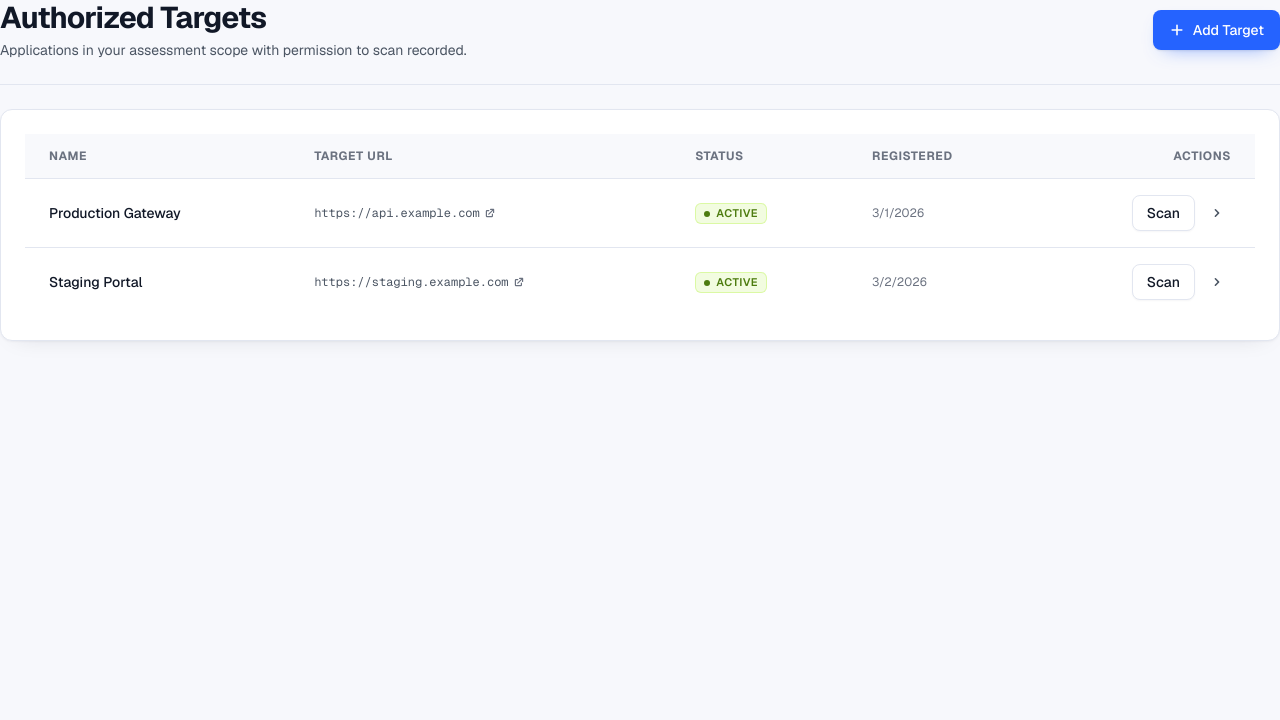
Targets Management Flow › validates empty name and target URL on submission
expect the link "Production Gateway" is shown: met, box [49,204,181,222]
Click the button "Add Target" at (1216,30), box [1153,10,1279,50]
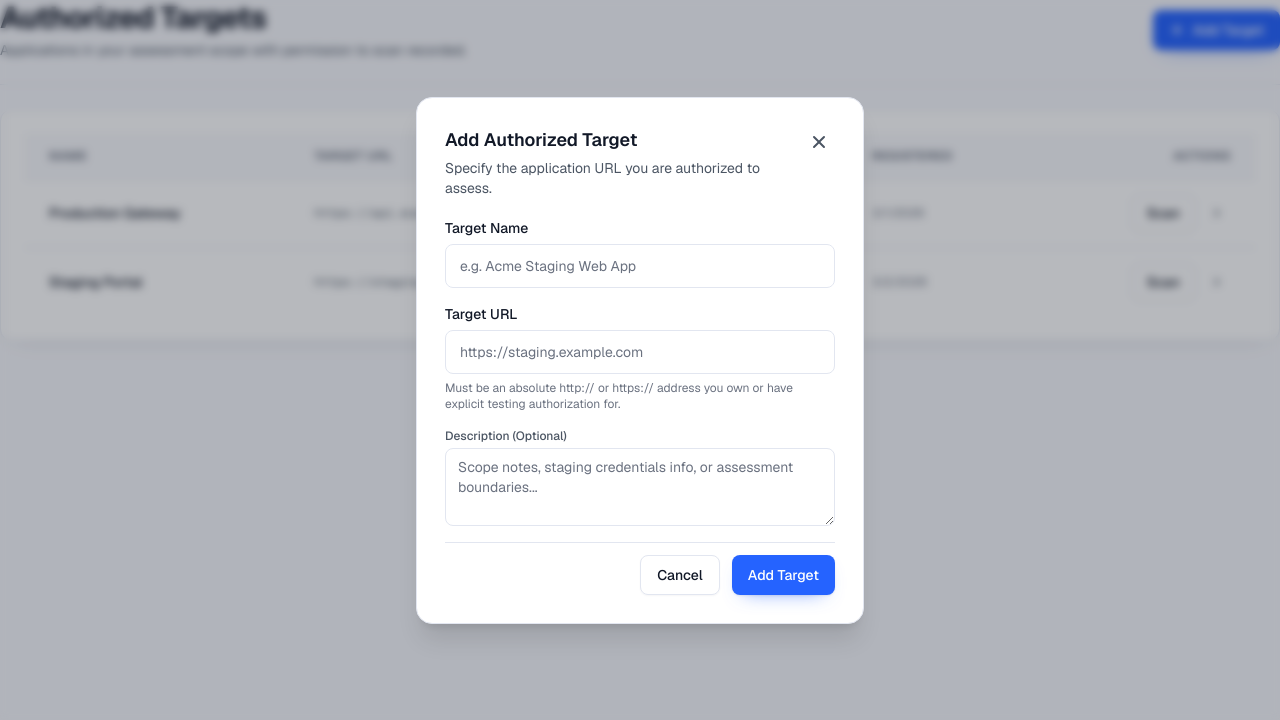
expect the dialog is shown: met
Submit the form, box [445,218,835,594]
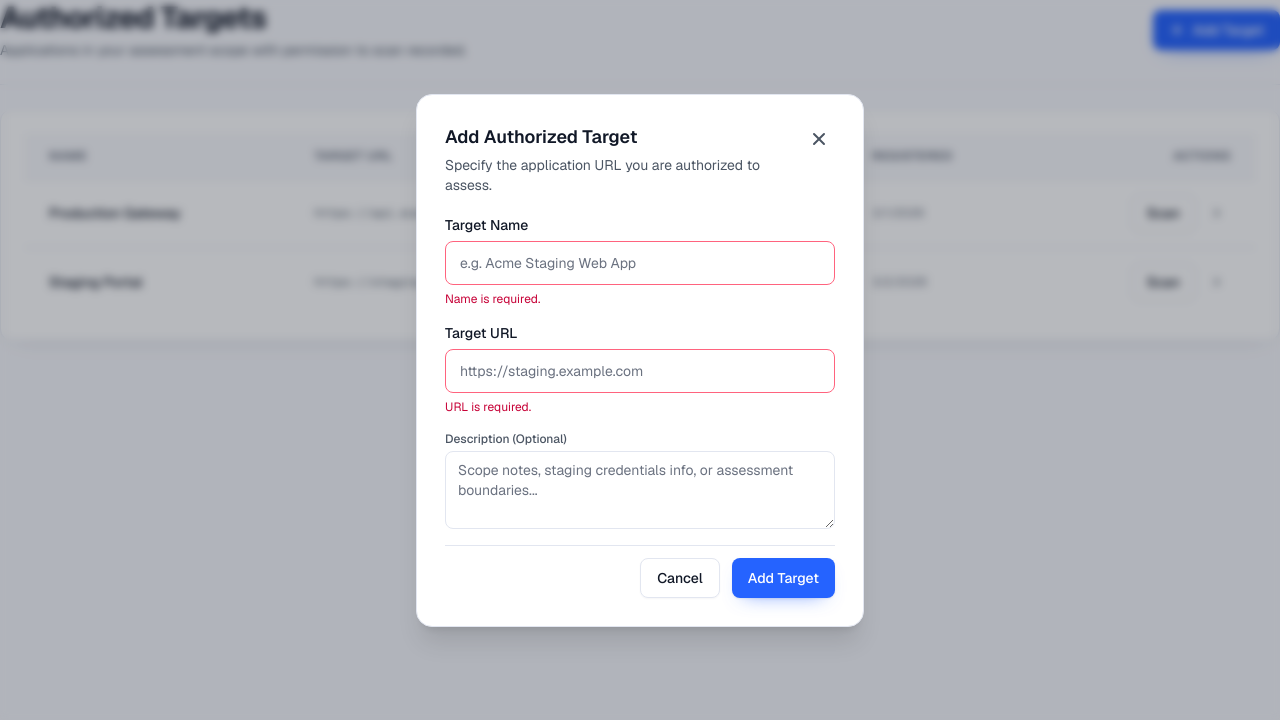
expect the text "Name is required." is shown: met, box [445,290,540,306]
expect the text "URL is required." is shown: met, box [445,398,531,414]
